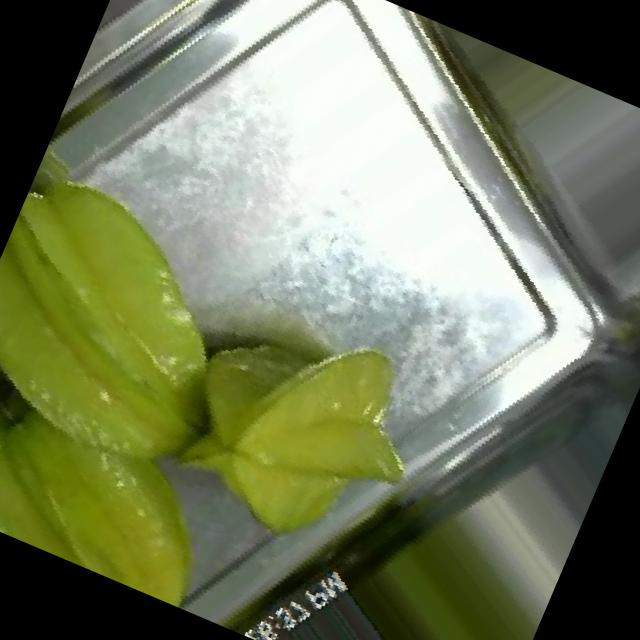fruit: (101, 233, 502, 626), (0, 228, 332, 625), (288, 393, 600, 640), (339, 0, 640, 215)
